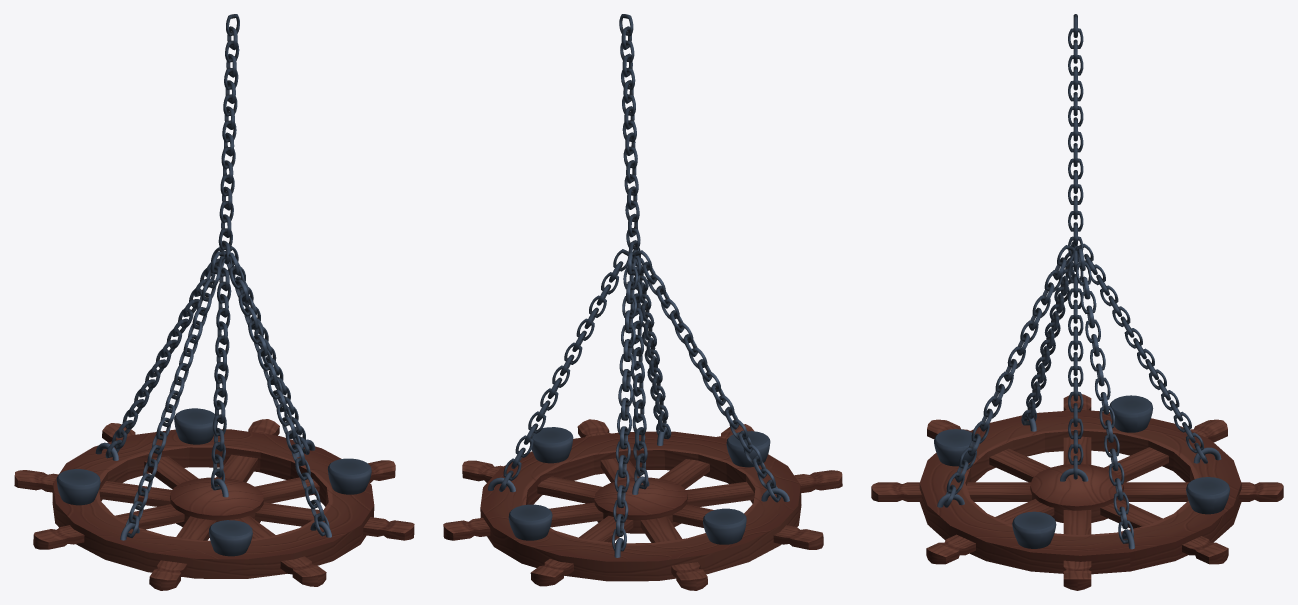
File: ANI_chandelier_4.fbx
The picture shows the model from 3 angles, left to right: view 1: azimuth 30°, elevation 25°; view 2: azimuth 150°, elevation 25°; view 3: azimuth 270°, elevation 25°; orthographic projection.
Parts seen in each view (by area): view 1: polySurface159; view 2: polySurface159; view 3: polySurface159.
Part boxes in pixels (x1,y1,x2,y2): polySurface159: (14,14,414,590); polySurface159: (443,14,842,590); polySurface159: (871,14,1283,590).
Bounding box in the file's own units: 1.18 × 1.58 × 1.18.
